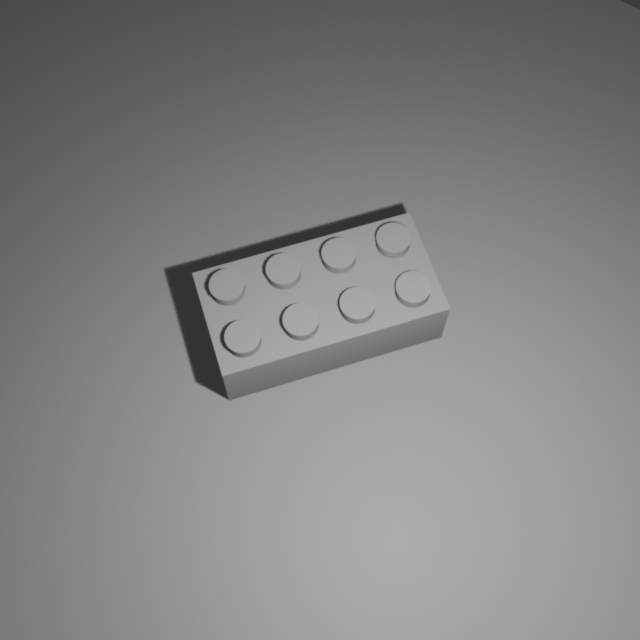lego_2x4: (191, 206, 452, 401)
